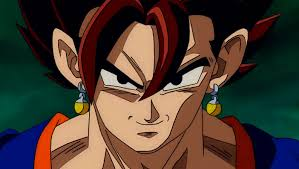Vegito: (51, 3, 247, 153)
